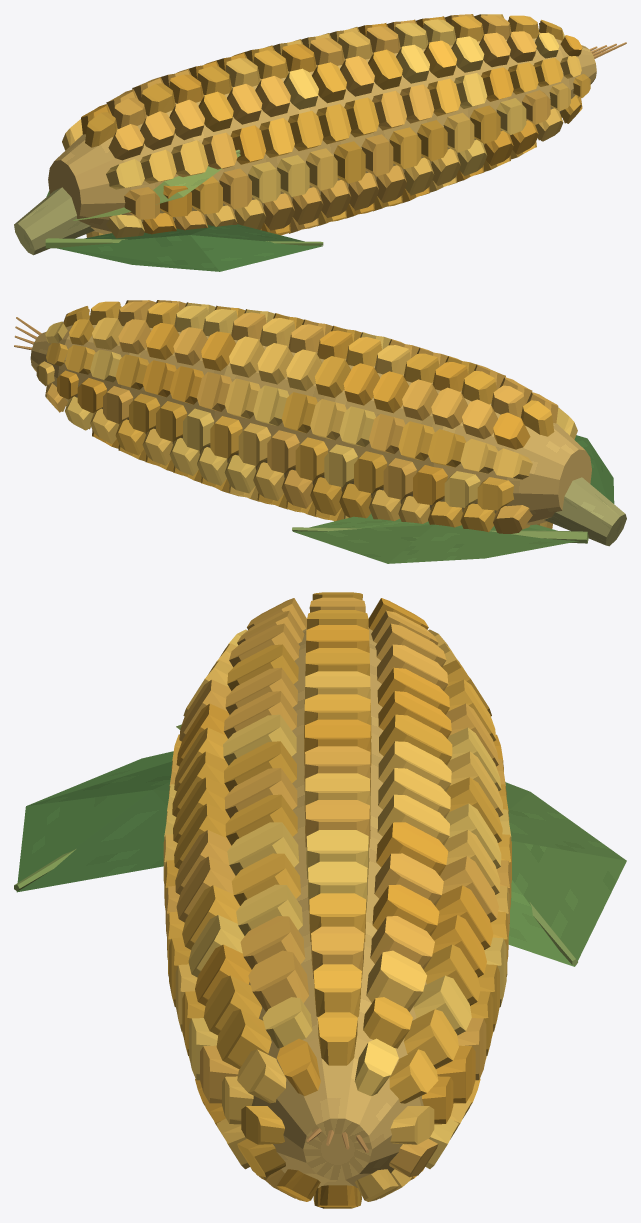
File: corn.glb
The picture shows the model from 3 angles, top to bottom: view 1: azimuth 30°, elevation 25°; view 2: azimuth 150°, elevation 25°; view 3: azimuth 270°, elevation 25°; orthographic projection. The views are drawn at different scales.
Parts seen in each view (by area): view 1: block_plump kernels in close staggered rows, block_tapered cob beneath the kernels (×7), block_peeled husk curling left blade (×2), block_peeled husk curling left tip (×2), block_pale cut stem, block_peeled husk curling left vein, block_inner pale husk fold tip, block_inner pale husk fold blade; view 2: block_plump kernels in close staggered rows, block_tapered cob beneath the kernels (×7), block_green husk under the cob blade, block_green husk under the cob tip (×2), block_pale cut stem, block_peeled husk curling left blade, block_green husk under the cob vein; view 3: block_plump kernels in close staggered rows, block_tapered cob beneath the kernels (×5), block_peeled husk curling left tip (×2), block_green husk under the cob tip (×2), block_green husk under the cob blade, block_peeled husk curling left blade.
Boxes of the visible parts, left/top/right/bottom form: block_plump kernels in close staggered rows: left=62, top=14, right=590, bottom=238; block_tapered cob beneath the kernels (×7): left=48, top=32, right=596, bottom=234; block_peeled husk curling left blade (×2): left=56, top=225, right=219, bottom=271; block_peeled husk curling left tip (×2): left=190, top=224, right=322, bottom=271; block_pale cut stem: left=14, top=187, right=94, bottom=255; block_peeled husk curling left vein: left=45, top=238, right=323, bottom=248; block_inner pale husk fold tip: left=164, top=153, right=240, bottom=196; block_inner pale husk fold blade: left=73, top=181, right=182, bottom=220; block_plump kernels in close staggered rows: left=36, top=300, right=577, bottom=533; block_tapered cob beneath the kernels (×7): left=30, top=316, right=591, bottom=525; block_green husk under the cob blade: left=388, top=525, right=578, bottom=563; block_green husk under the cob tip (×2): left=293, top=513, right=433, bottom=563; block_pale cut stem: left=544, top=477, right=626, bottom=546; block_peeled husk curling left blade: left=577, top=438, right=614, bottom=503; block_green husk under the cob vein: left=292, top=527, right=588, bottom=543; block_plump kernels in close staggered rows: left=163, top=592, right=511, bottom=1208; block_tapered cob beneath the kernels (×5): left=249, top=647, right=426, bottom=1187; block_peeled husk curling left tip (×2): left=16, top=790, right=167, bottom=892; block_green husk under the cob tip (×2): left=508, top=841, right=626, bottom=966; block_green husk under the cob blade: left=505, top=782, right=626, bottom=860; block_peeled husk curling left blade: left=26, top=751, right=173, bottom=806.
Bounding box in the file's own units: 0.178 × 0.048 × 0.0846.
Materials: 2 (2 with a texture image).
